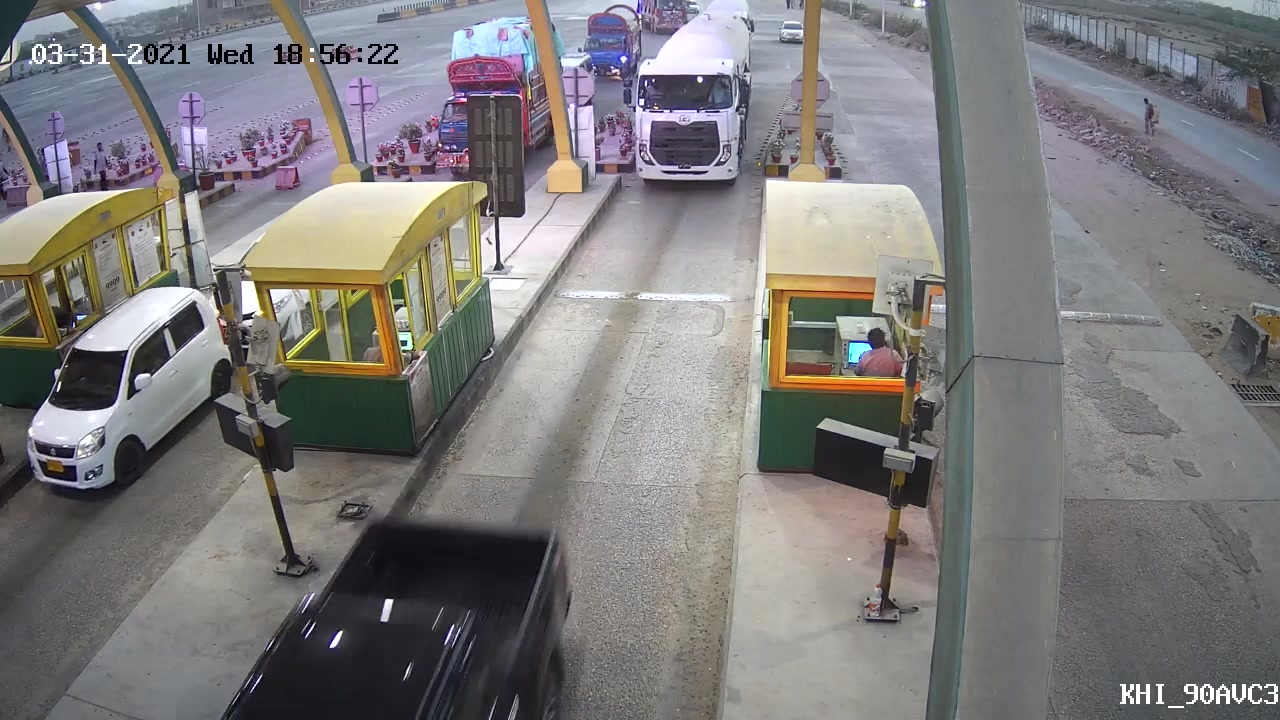F6: (623, 47, 754, 198)
